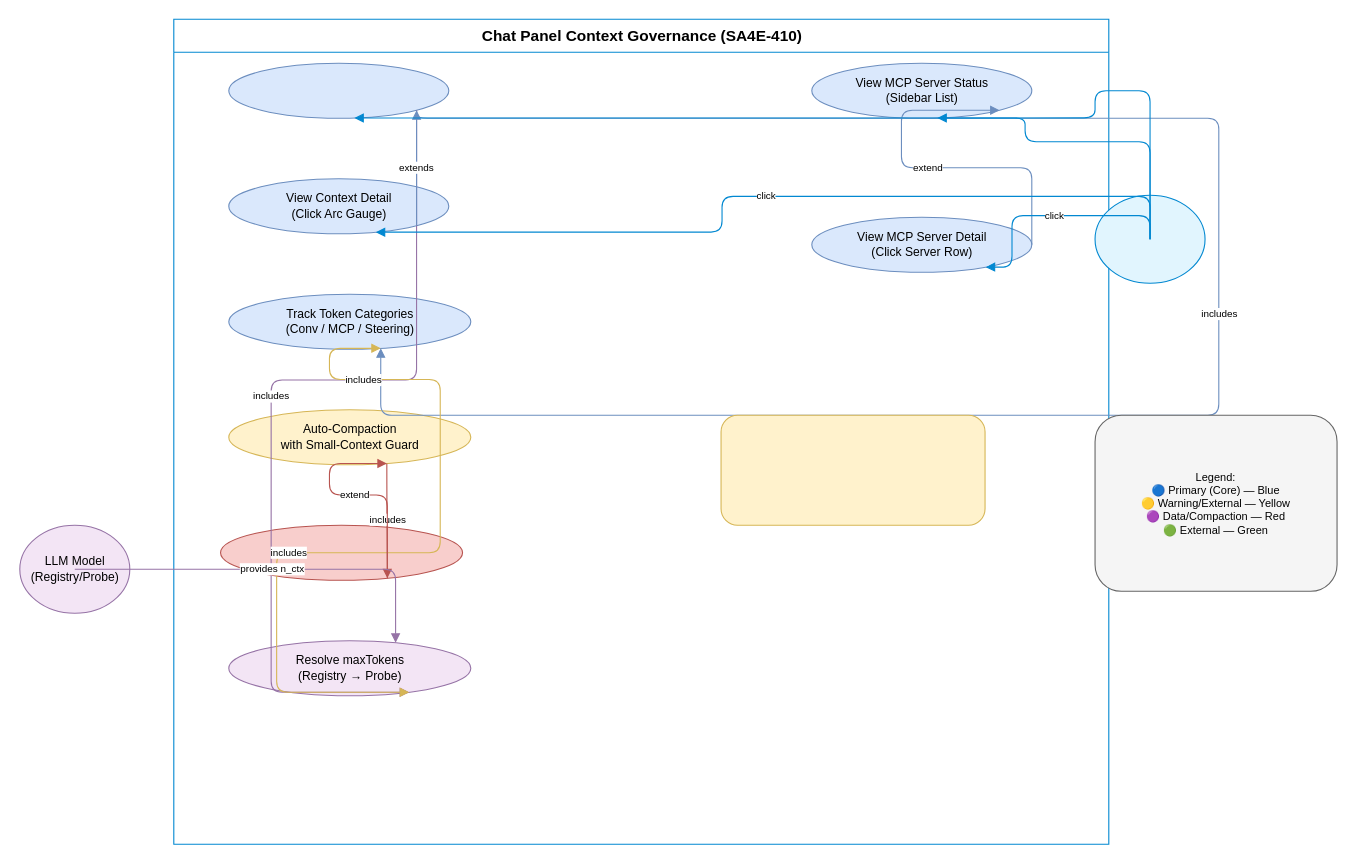
The diagram is 1356 pixels wide and 864 high, and some of its shapes have lost their labels. The shapes that lost their labels are listed below. From the top down, each one's centre as x and y in pixels, then its label:
the point at 338,90: Monitor Context Usage (Arc Gauge)
the point at 1149,238: Developer (User)
the point at 852,469: Foundation: • SA4E-339: Auto-Compaction • SA4E-369: Token Budget (Related)
the point at 341,552: Session Compaction (Summarize + Keep Recent)
